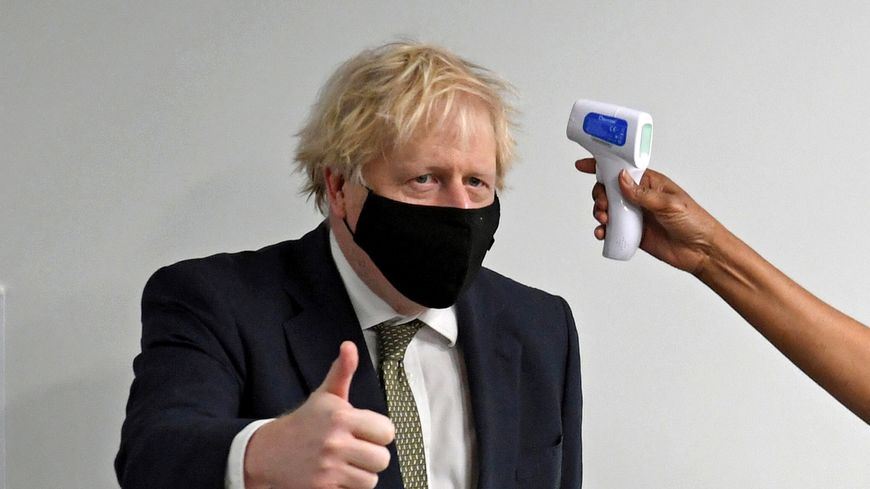with_mask: (360, 108, 496, 289)
